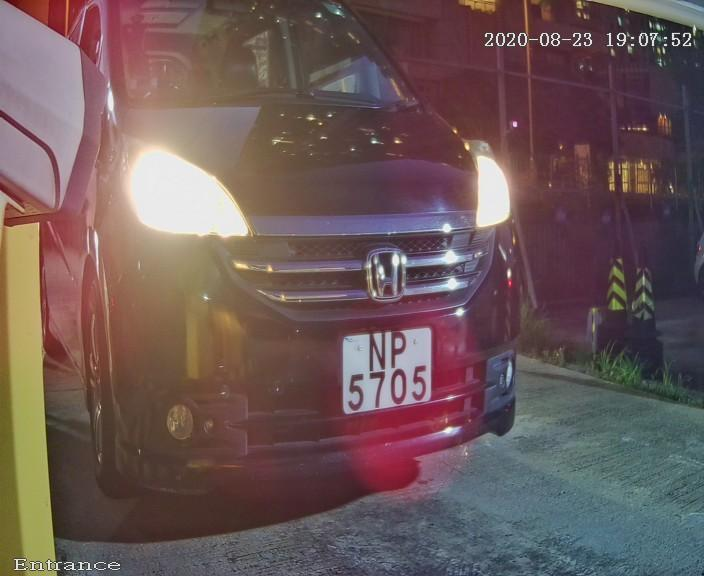Car: (26, 8, 591, 543)
License Plate: (307, 298, 457, 435)
